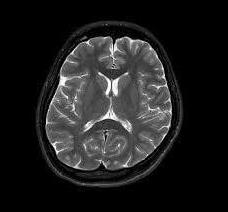Normal_Brain: (19, 13, 222, 196)
